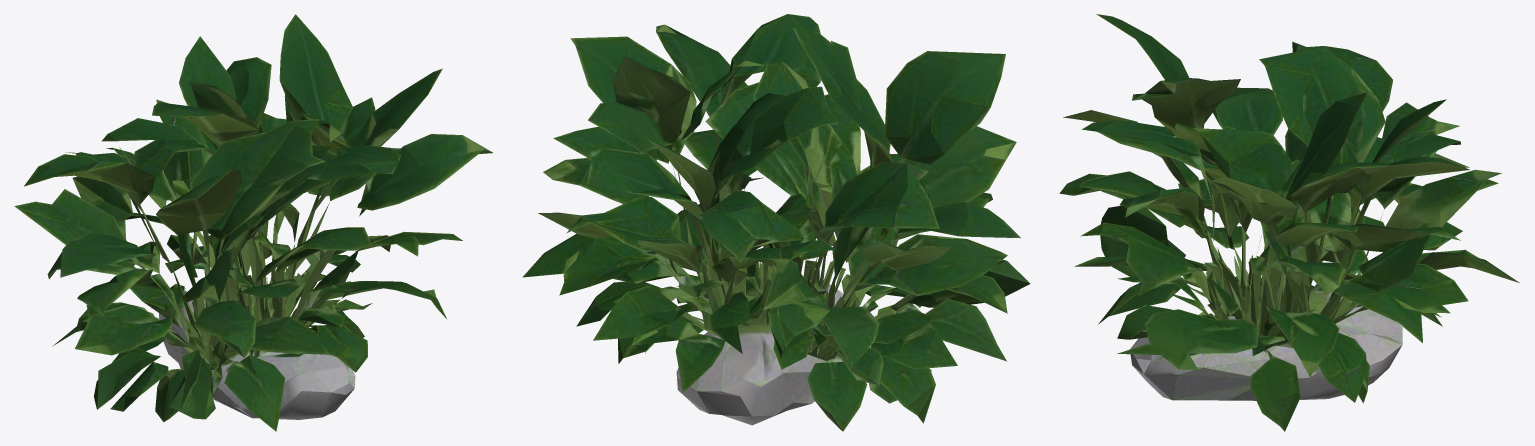
Rendered from prop-anubias.glb.
The picture shows the model from 3 angles, left to right: view 1: azimuth 30°, elevation 25°; view 2: azimuth 150°, elevation 25°; view 3: azimuth 270°, elevation 25°; orthographic projection. The views are drawn at different scales.
Size of the model in its own units: 0.4005 by 0.3 by 0.3755.
1 material, 1 textured.
